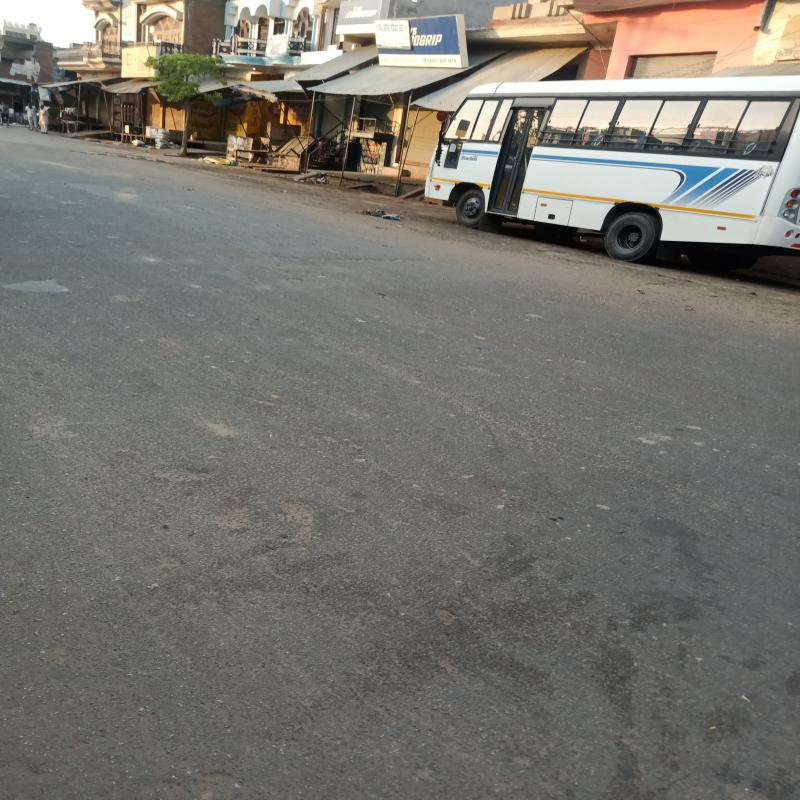bus: (422, 78, 800, 258)
